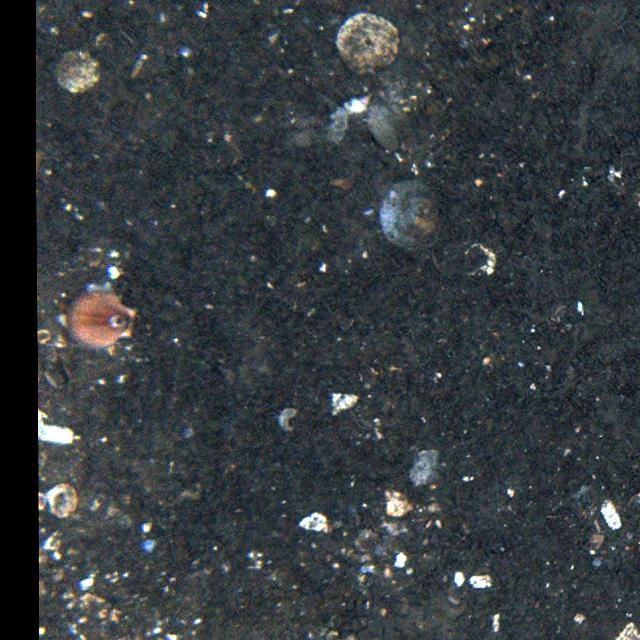scallop: (68, 288, 141, 346)
